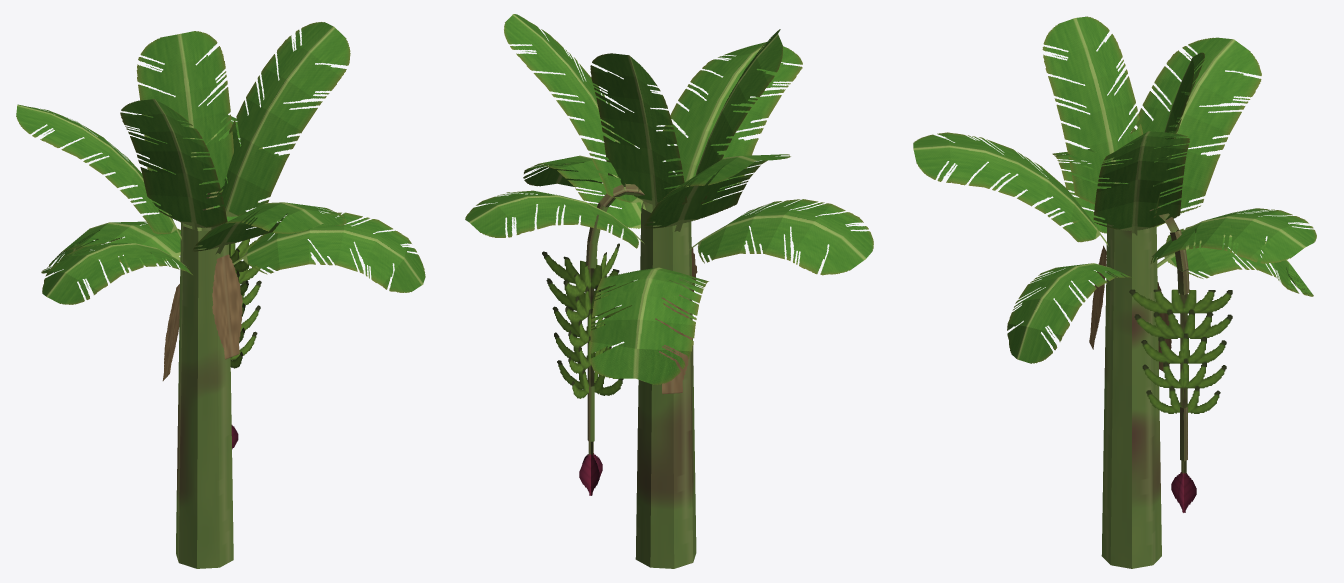
File: banana_5.obj
3 renders of one model, left to right at view 1: azimuth 30°, elevation 25°; view 2: azimuth 150°, elevation 25°; view 3: azimuth 270°, elevation 25°, orthographic. The views are drawn at different scales.
Visible parts, largest first — view 1: banana; view 2: banana; view 3: banana.
Boxes of the visible parts, box(x1,y1,x2,y2) form: banana: box(16, 22, 425, 568); banana: box(465, 14, 873, 568); banana: box(913, 16, 1316, 568).
Bounding box in the file's own units: 2.37 × 3.13 × 2.35.
